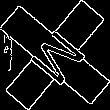M_SE: (21, 21, 89, 89)
